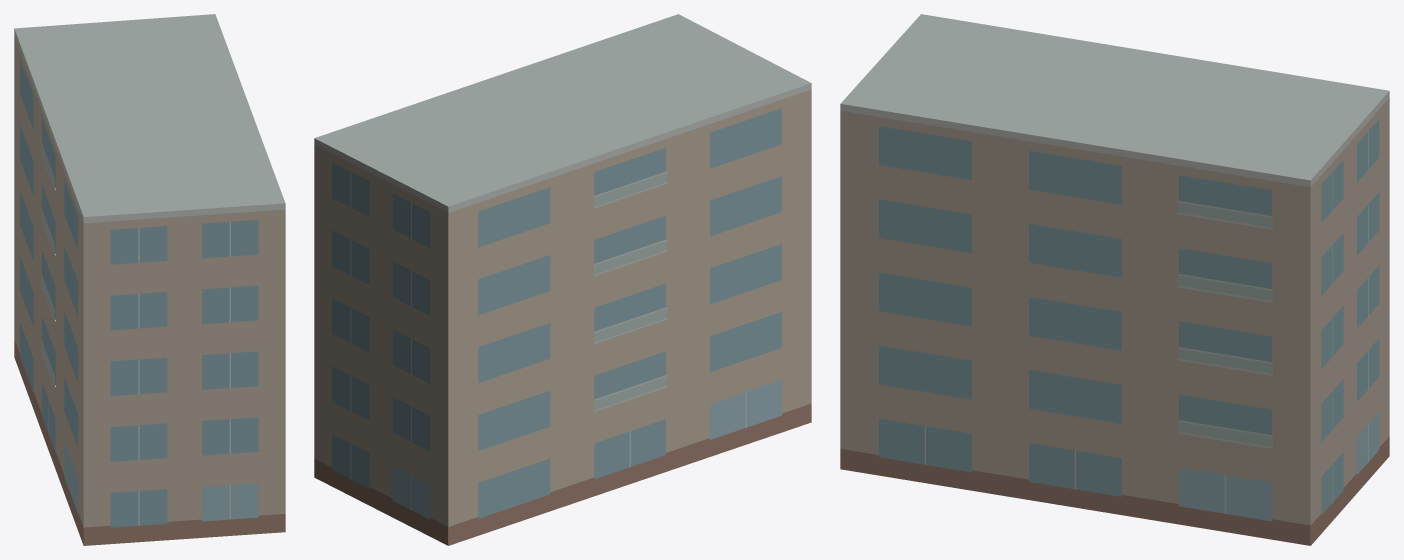
The model's file is survey-upis-33035919.glb.
The picture shows the model from 3 angles, left to right: view 1: azimuth 30°, elevation 25°; view 2: azimuth 150°, elevation 25°; view 3: azimuth 270°, elevation 25°; orthographic projection. The views are drawn at different scales.
Visible parts, largest first — view 1: survey-upis-33035919.tmp; view 2: survey-upis-33035919.tmp; view 3: survey-upis-33035919.tmp.
Boxes of the visible parts, left/top/right/bottom form: survey-upis-33035919.tmp: left=14, top=14, right=285, bottom=545; survey-upis-33035919.tmp: left=314, top=14, right=811, bottom=545; survey-upis-33035919.tmp: left=840, top=14, right=1389, bottom=545.
Size of the model in its own units: 12.8 by 13.1 by 17.85.
